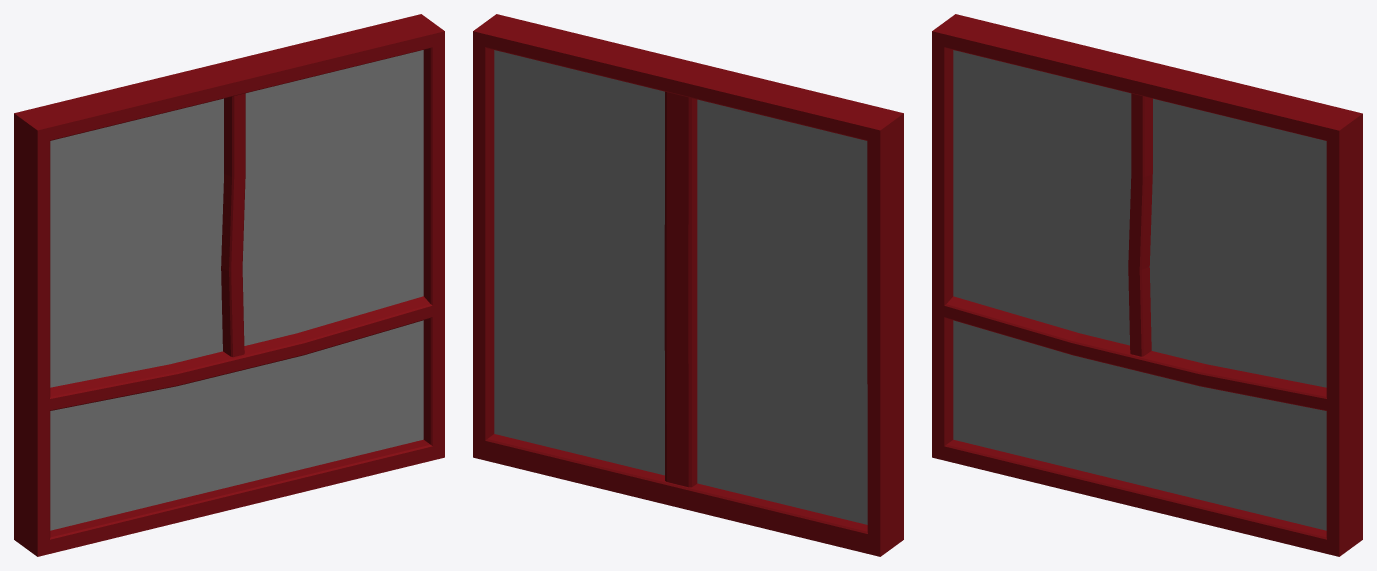
The model's file is SM_MH_01_Wood_02_Wall_04.fbx.
3 views of the same model, side by side, from view 1: azimuth 30°, elevation 25°; view 2: azimuth 150°, elevation 25°; view 3: azimuth 330°, elevation 25° (orthographic).
Visible parts, largest first — view 1: SM_MH_01_Wood_02_Wall_04_LOD0; view 2: SM_MH_01_Wood_02_Wall_04_LOD0; view 3: SM_MH_01_Wood_02_Wall_04_LOD0.
Part boxes in pixels (box(x1,y1,x2,y2)): SM_MH_01_Wood_02_Wall_04_LOD0: box(14, 14, 444, 556); SM_MH_01_Wood_02_Wall_04_LOD0: box(473, 14, 903, 556); SM_MH_01_Wood_02_Wall_04_LOD0: box(932, 14, 1362, 556).
Size of what is drawn, in the model's own units: 300 by 300 by 30.
